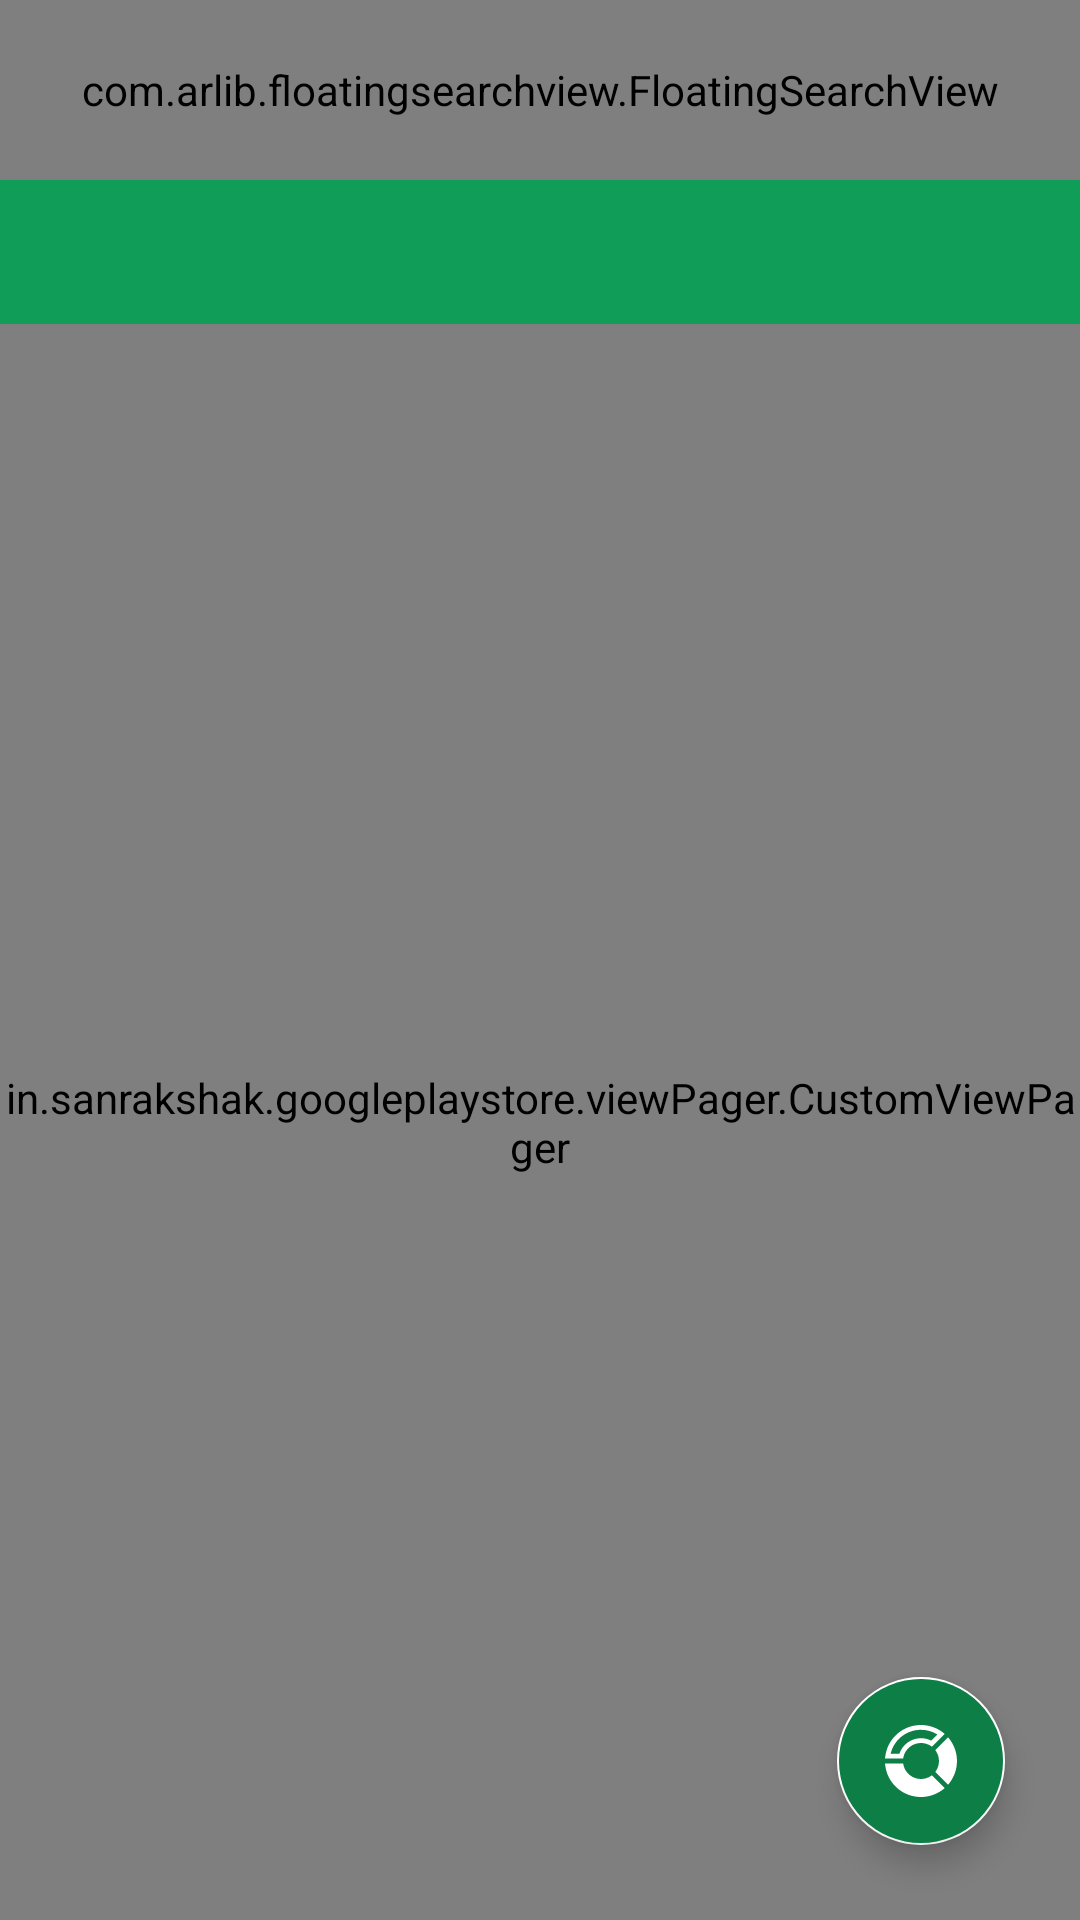

Where icons sit on this 1080*1920 app screen, as [x1=x1, y1=y1, x2=x2, y2=y2]:
chart: [x1=837, y1=1677, x2=1005, y2=1845]
